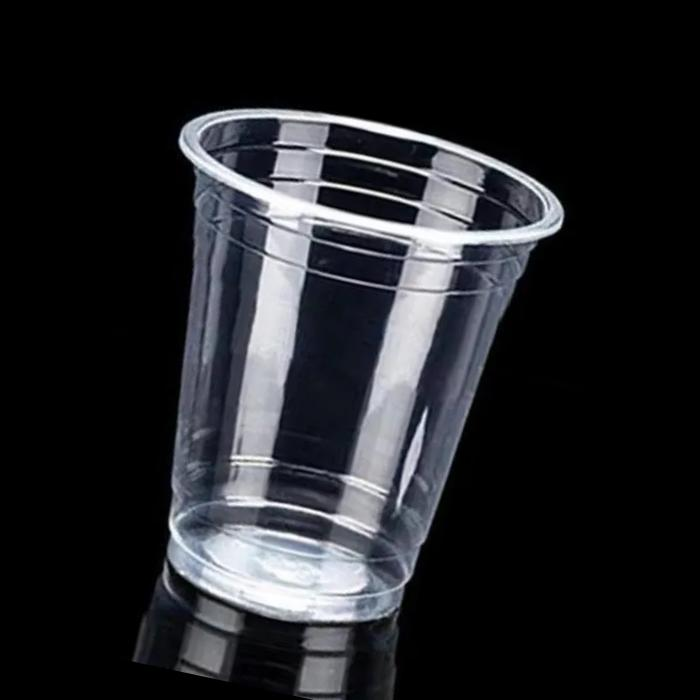Plastik: (168, 110, 562, 620), (133, 567, 398, 699)
